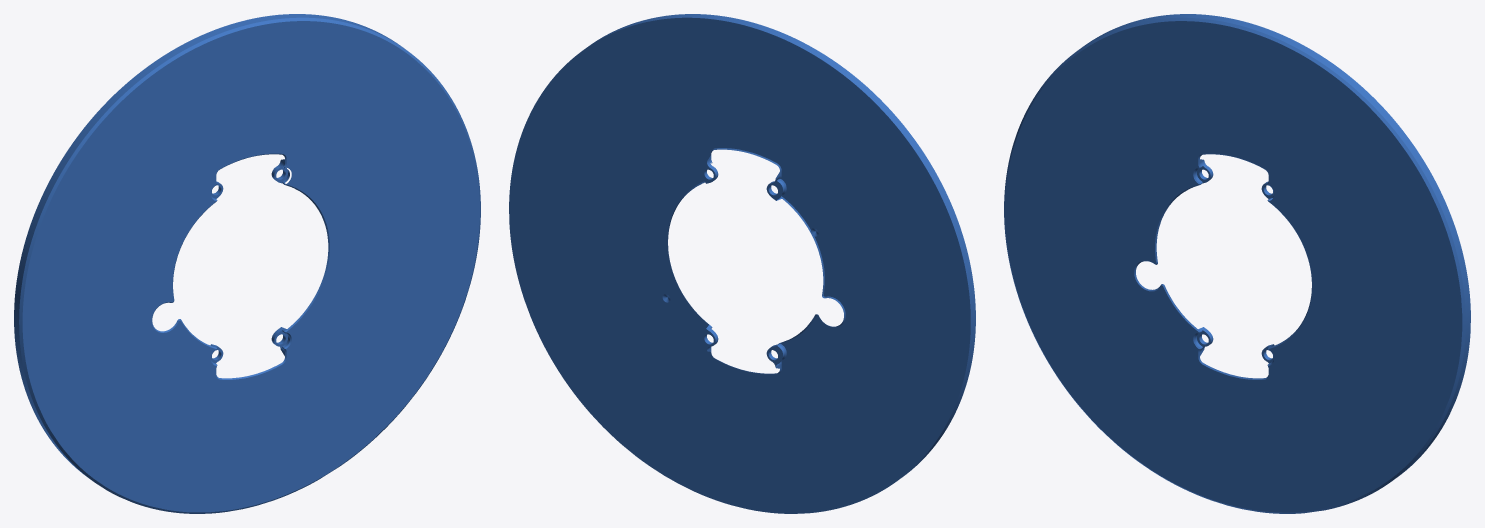
File: globe.glb
3 views of the same model, side by side, from view 1: azimuth 30°, elevation 25°; view 2: azimuth 150°, elevation 25°; view 3: azimuth 330°, elevation 25° (orthographic).
Parts seen in each view (by area): view 1: globe_earth; view 2: globe_earth; view 3: globe_earth.
Part boxes in pixels (bbox=[...]): globe_earth: bbox=[14, 14, 480, 513]; globe_earth: bbox=[509, 14, 975, 513]; globe_earth: bbox=[1004, 14, 1470, 513].
Bounding box in the file's own units: 0.0417 × 0.0416 × 0.000999.
